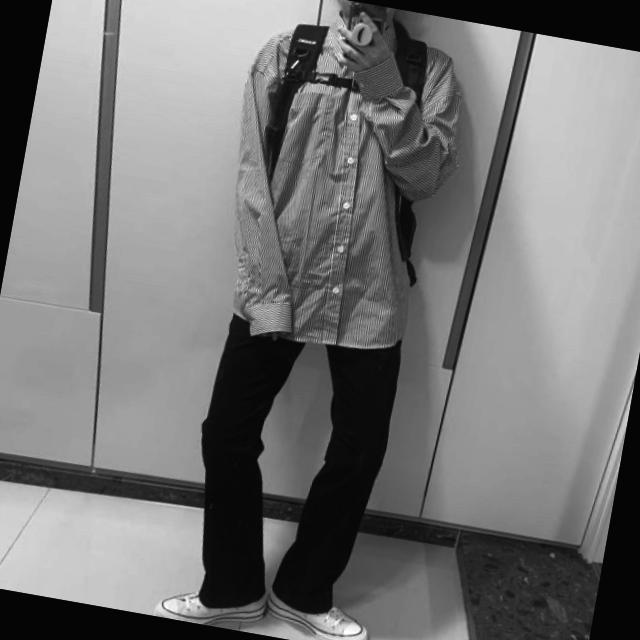shirt: (204, 0, 481, 362)
slacks: (172, 300, 412, 633)
